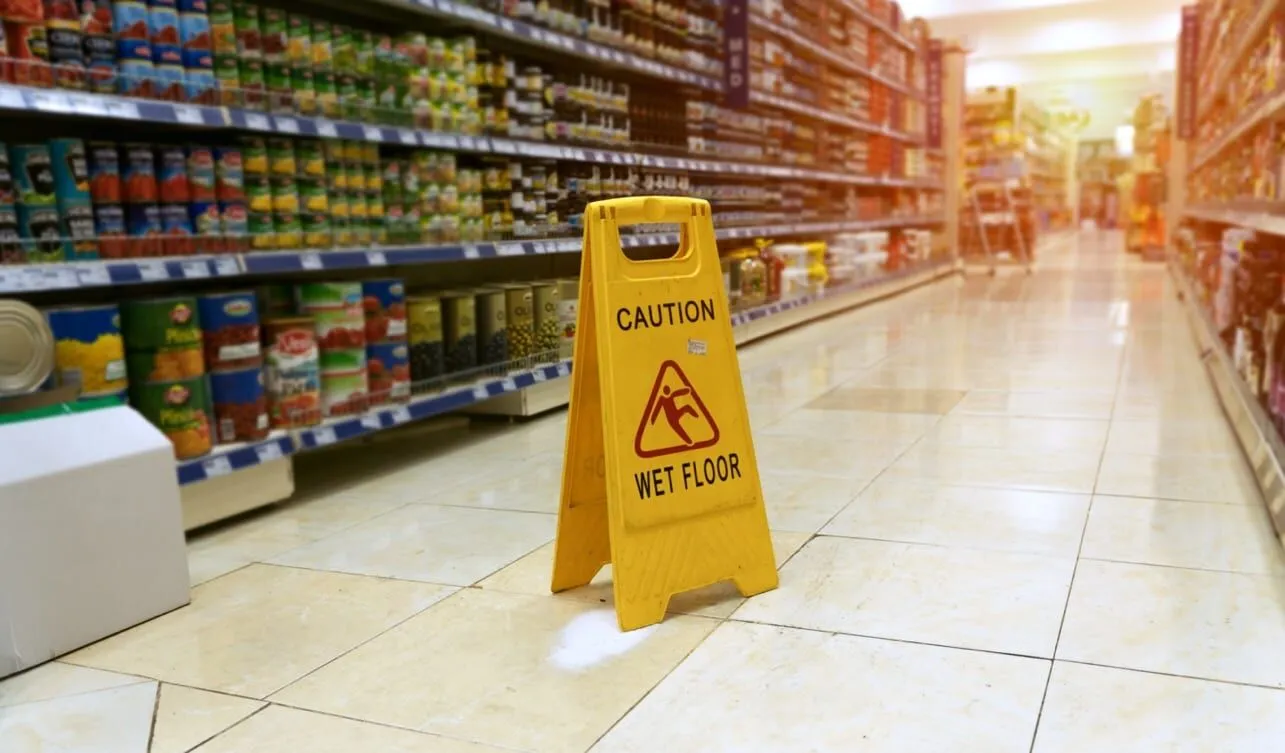wet caution sign: (510, 181, 809, 623)
